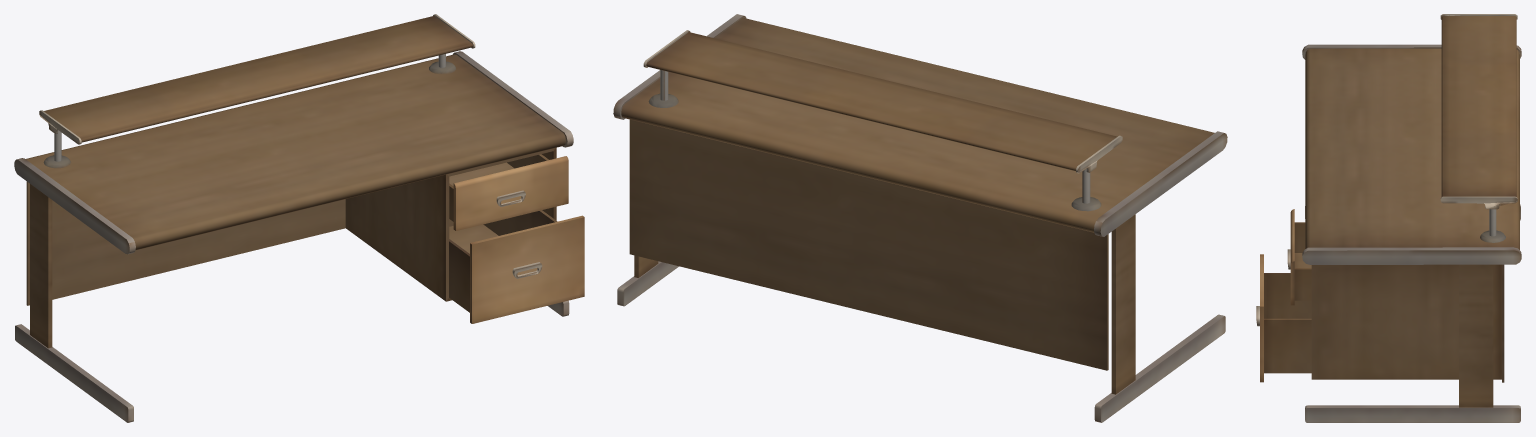
The model's file is desk.dae.
3 views of the same model, side by side, from view 1: azimuth 30°, elevation 25°; view 2: azimuth 150°, elevation 25°; view 3: azimuth 270°, elevation 25° (orthographic). The views are drawn at different scales.
Parts seen in each view (by area): view 1: Object001; view 2: Object001; view 3: Object001.
Part boxes in pixels (x1,y1,x2,y2): Object001: [14, 14, 584, 422]; Object001: [613, 14, 1227, 422]; Object001: [1256, 14, 1521, 422].
Size of the model in its own units: 0.7909 by 0.3858 by 0.4314.
